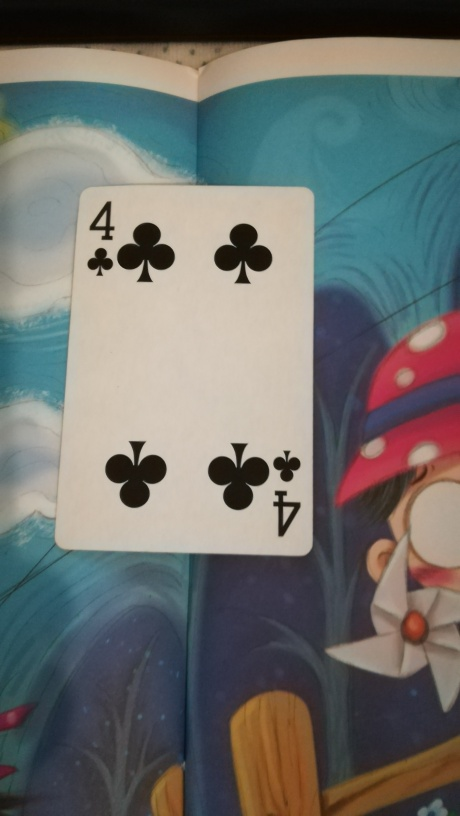mh 4: (48, 184, 317, 561)
